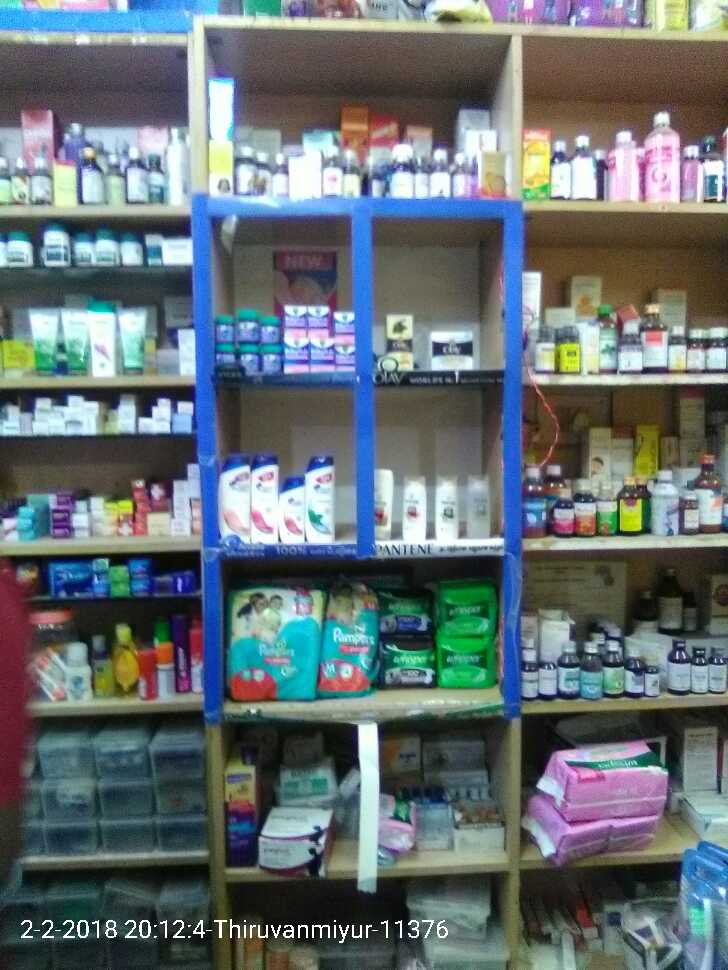vicks: (219, 300, 358, 374)
